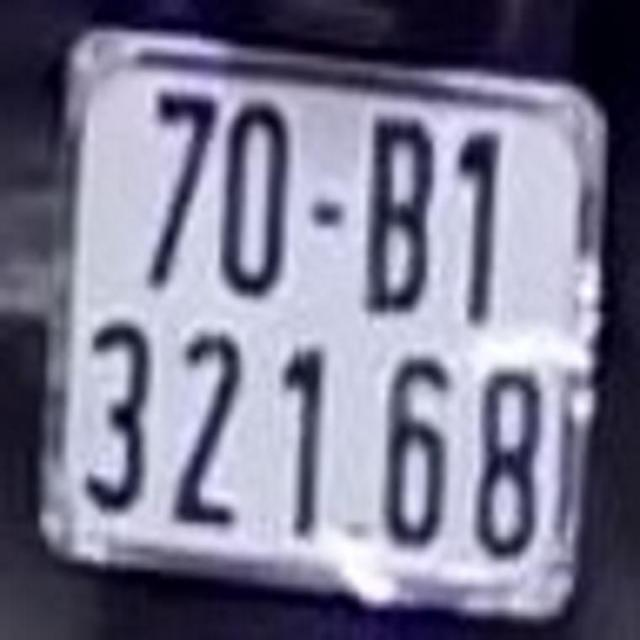0: (224, 97, 284, 289)
1: (448, 130, 500, 317), (276, 348, 328, 535)
2: (171, 330, 241, 520)
3: (84, 320, 146, 506)
6: (380, 348, 447, 546)
7: (148, 91, 215, 287)
8: (474, 374, 540, 560)
B: (363, 116, 430, 310)
